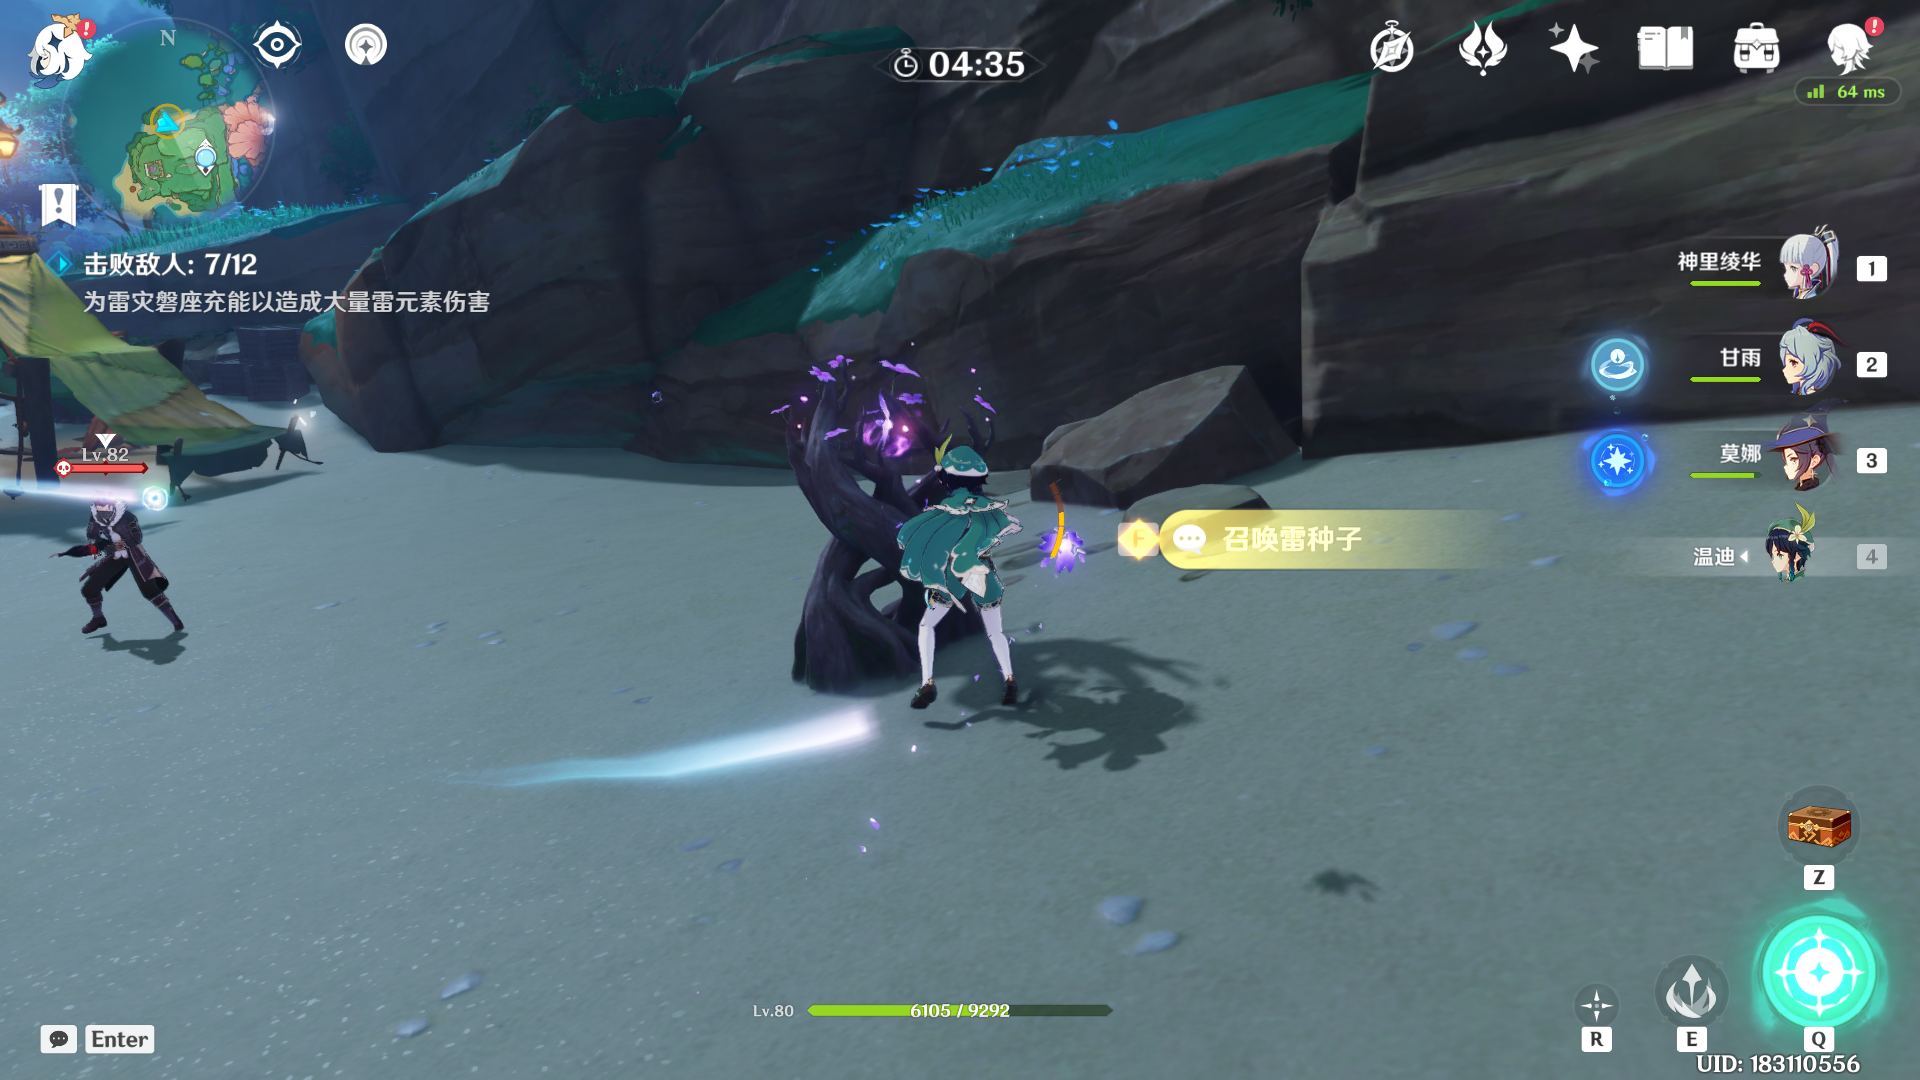character: (857, 438, 1080, 760)
robber: (33, 485, 215, 655)
